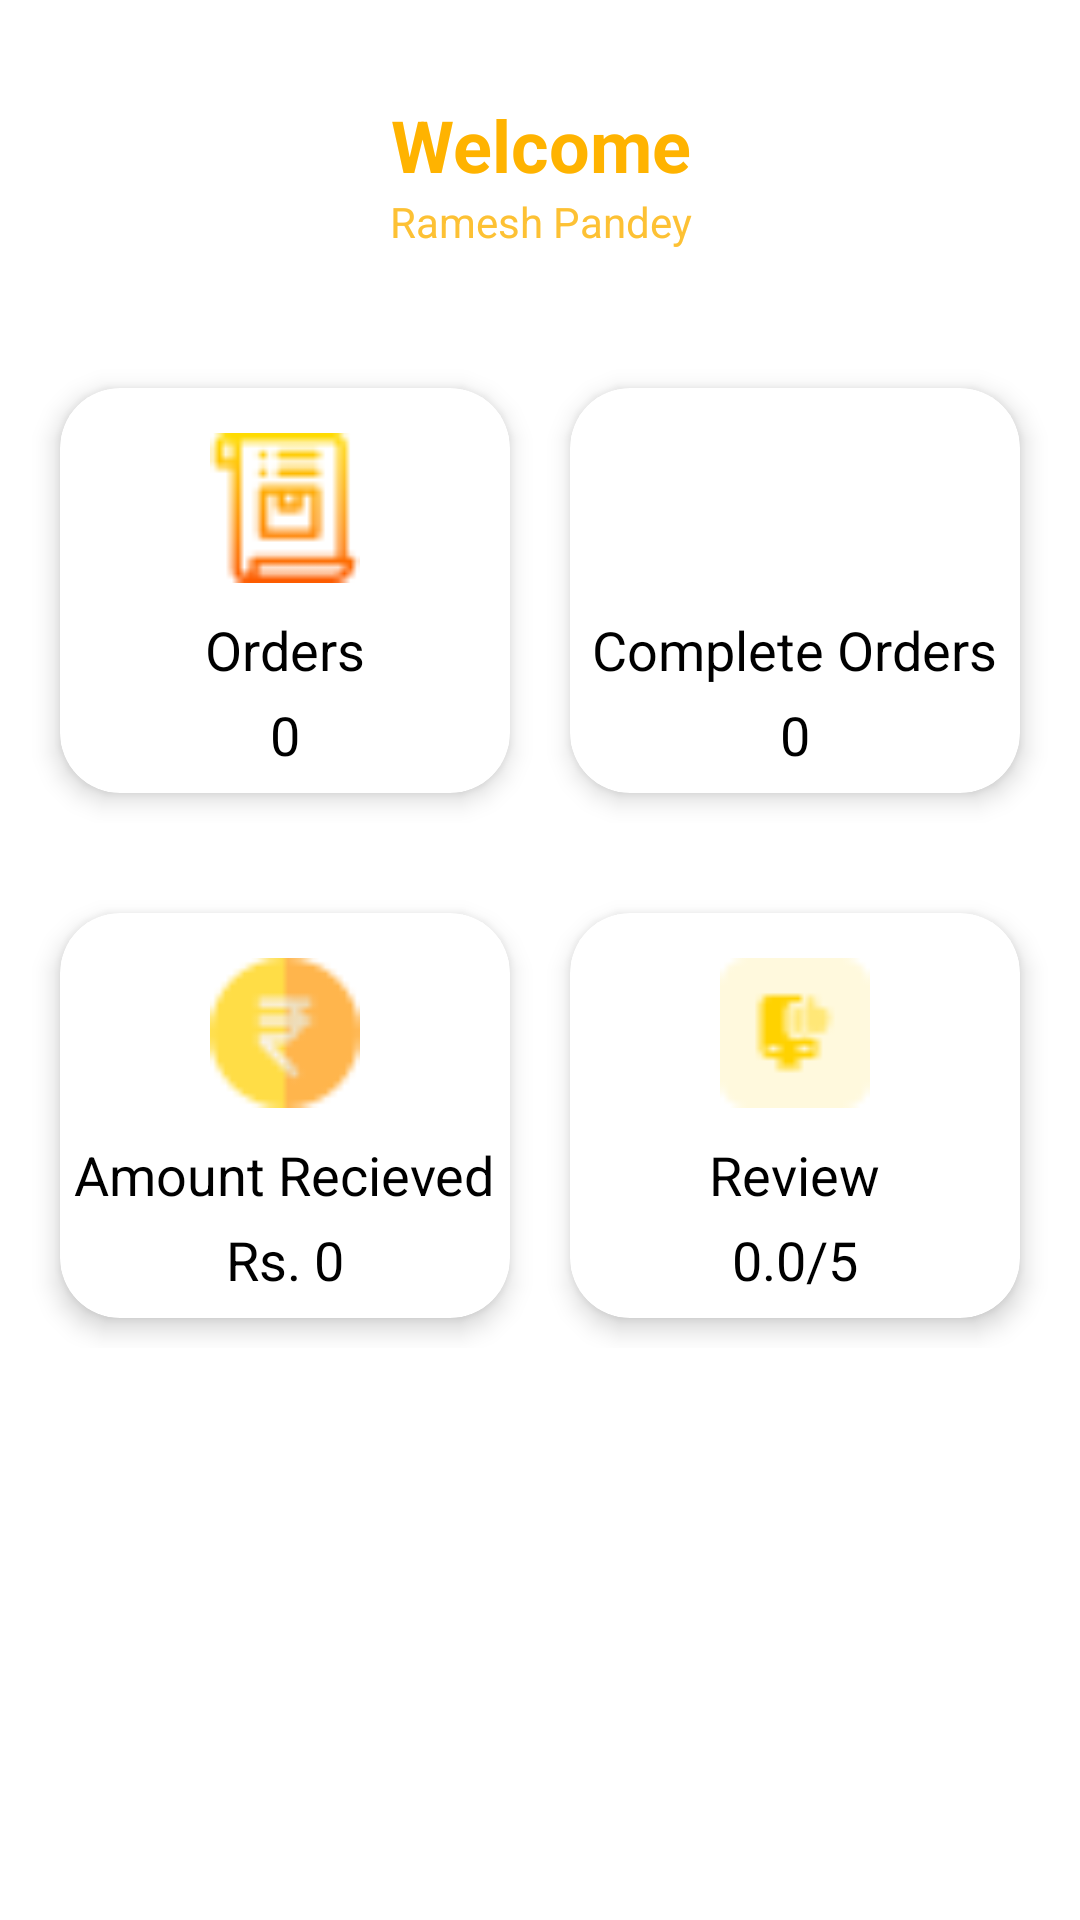

Point at icon controls on the screen. Image size 1080 × 1920, points as point (x, y).
receipt: point (285, 508)
rupee: point (285, 1033)
